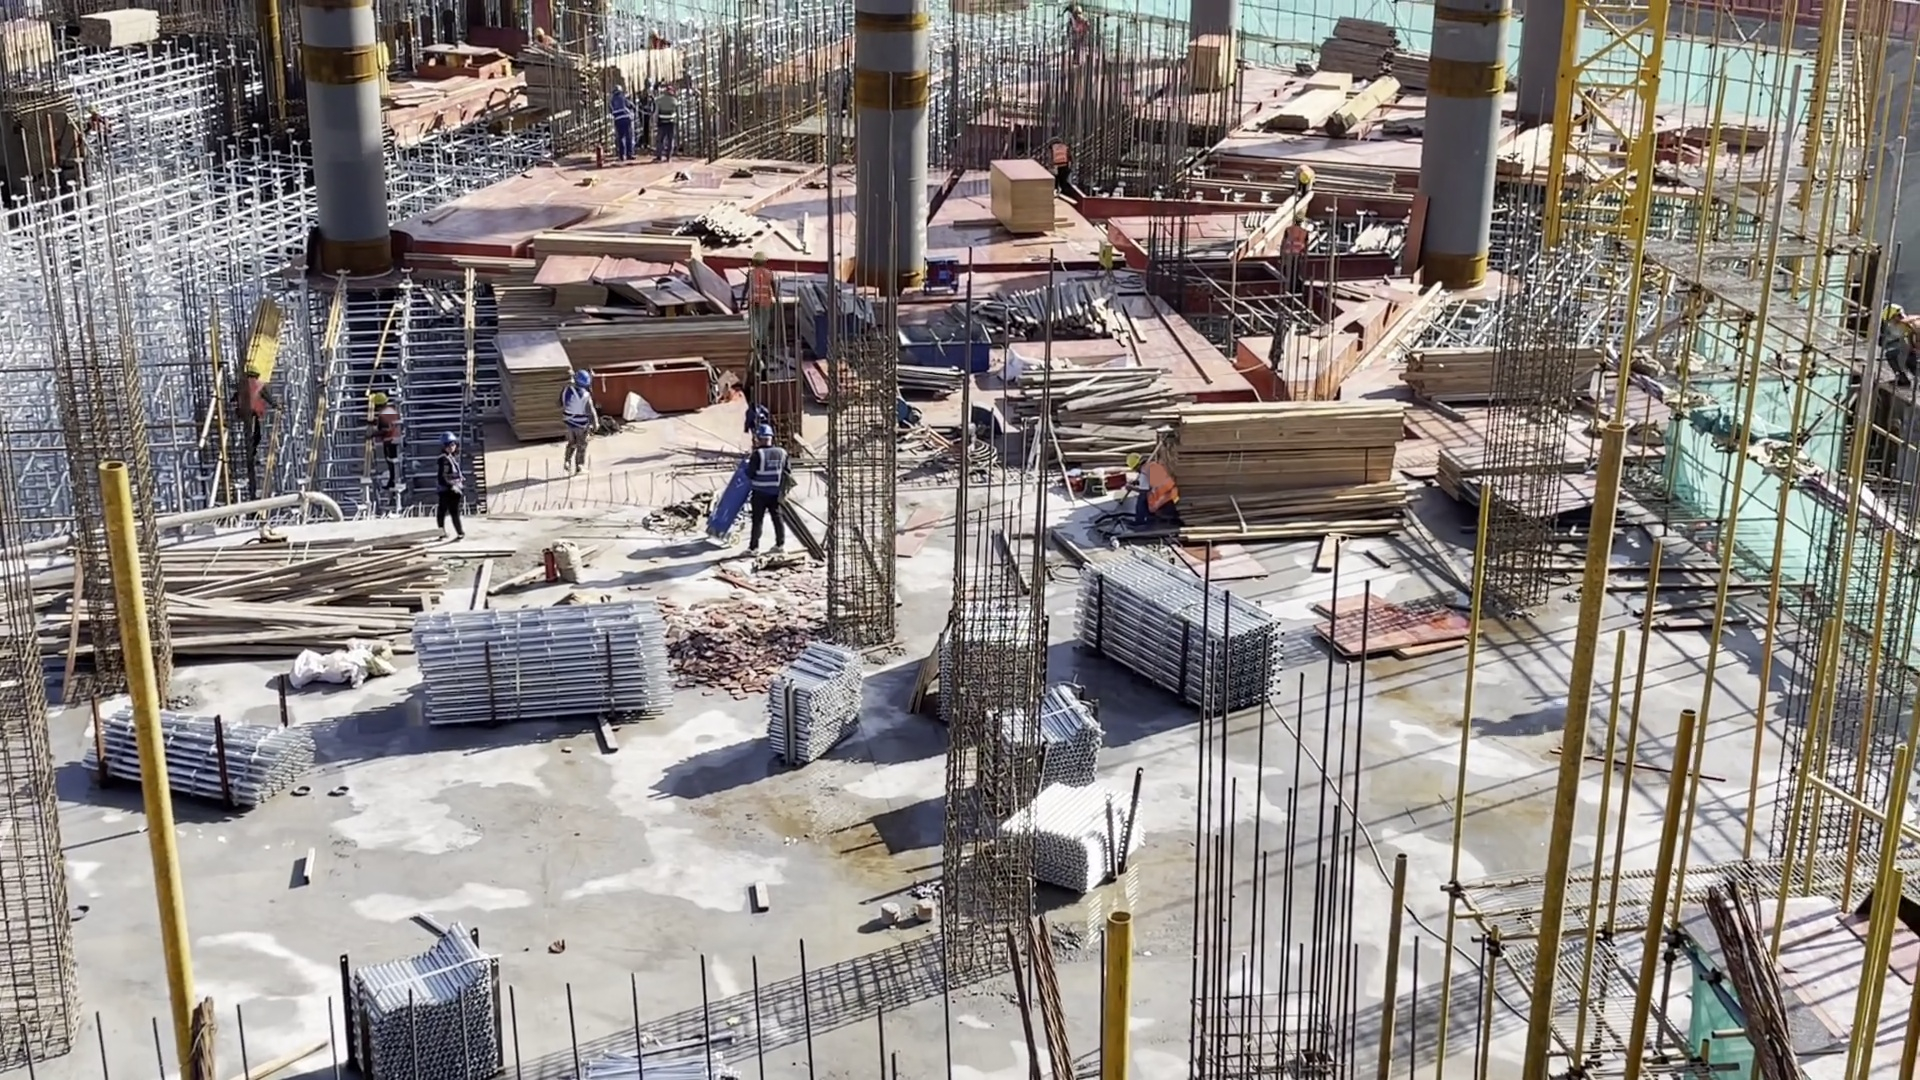board: (1524, 444, 1644, 557), (496, 307, 553, 462), (983, 159, 1048, 237), (543, 265, 693, 293), (1185, 31, 1239, 99)
cutter: (1624, 124, 1704, 208)
ebox: (1102, 236, 1117, 263)
helmet: (370, 395, 401, 415), (752, 427, 777, 442), (441, 425, 454, 447), (573, 366, 591, 383), (751, 253, 771, 265), (1051, 133, 1073, 143), (1128, 453, 1139, 468), (1073, 5, 1083, 20), (665, 82, 675, 93), (651, 76, 661, 90), (1300, 174, 1310, 187), (618, 87, 628, 98), (536, 28, 545, 38), (1295, 211, 1305, 219), (247, 366, 256, 375), (1585, 84, 1592, 94)
hopper: (879, 309, 991, 376)
person: (1124, 446, 1187, 525), (368, 390, 416, 492), (435, 428, 471, 536), (237, 365, 283, 442), (748, 428, 786, 518), (742, 256, 779, 348), (1879, 289, 1920, 367), (567, 370, 598, 468), (1044, 132, 1080, 187), (1069, 7, 1100, 65), (1292, 145, 1323, 202), (1283, 212, 1305, 278), (1584, 74, 1605, 140), (639, 65, 658, 130), (667, 76, 681, 162), (612, 82, 628, 141), (533, 29, 565, 56)
scaffold: (1111, 572, 1278, 779), (411, 606, 656, 724), (1016, 702, 1186, 831), (1019, 766, 1138, 917), (114, 714, 311, 801), (331, 957, 461, 1064), (961, 606, 1048, 759), (773, 631, 879, 749)
vest: (757, 444, 790, 497), (1139, 459, 1178, 503), (442, 453, 464, 498), (571, 393, 598, 429), (754, 270, 778, 310), (245, 383, 268, 421), (1291, 222, 1308, 267), (388, 403, 403, 446), (613, 101, 636, 129), (663, 95, 681, 125), (1050, 144, 1067, 173), (544, 29, 565, 54), (1299, 156, 1314, 188), (1586, 95, 1602, 123), (643, 94, 658, 120), (1073, 23, 1085, 39)
wood: (106, 504, 426, 632), (1173, 396, 1401, 486), (1389, 344, 1611, 416), (569, 320, 754, 373), (1327, 15, 1432, 92), (1263, 71, 1338, 127)
